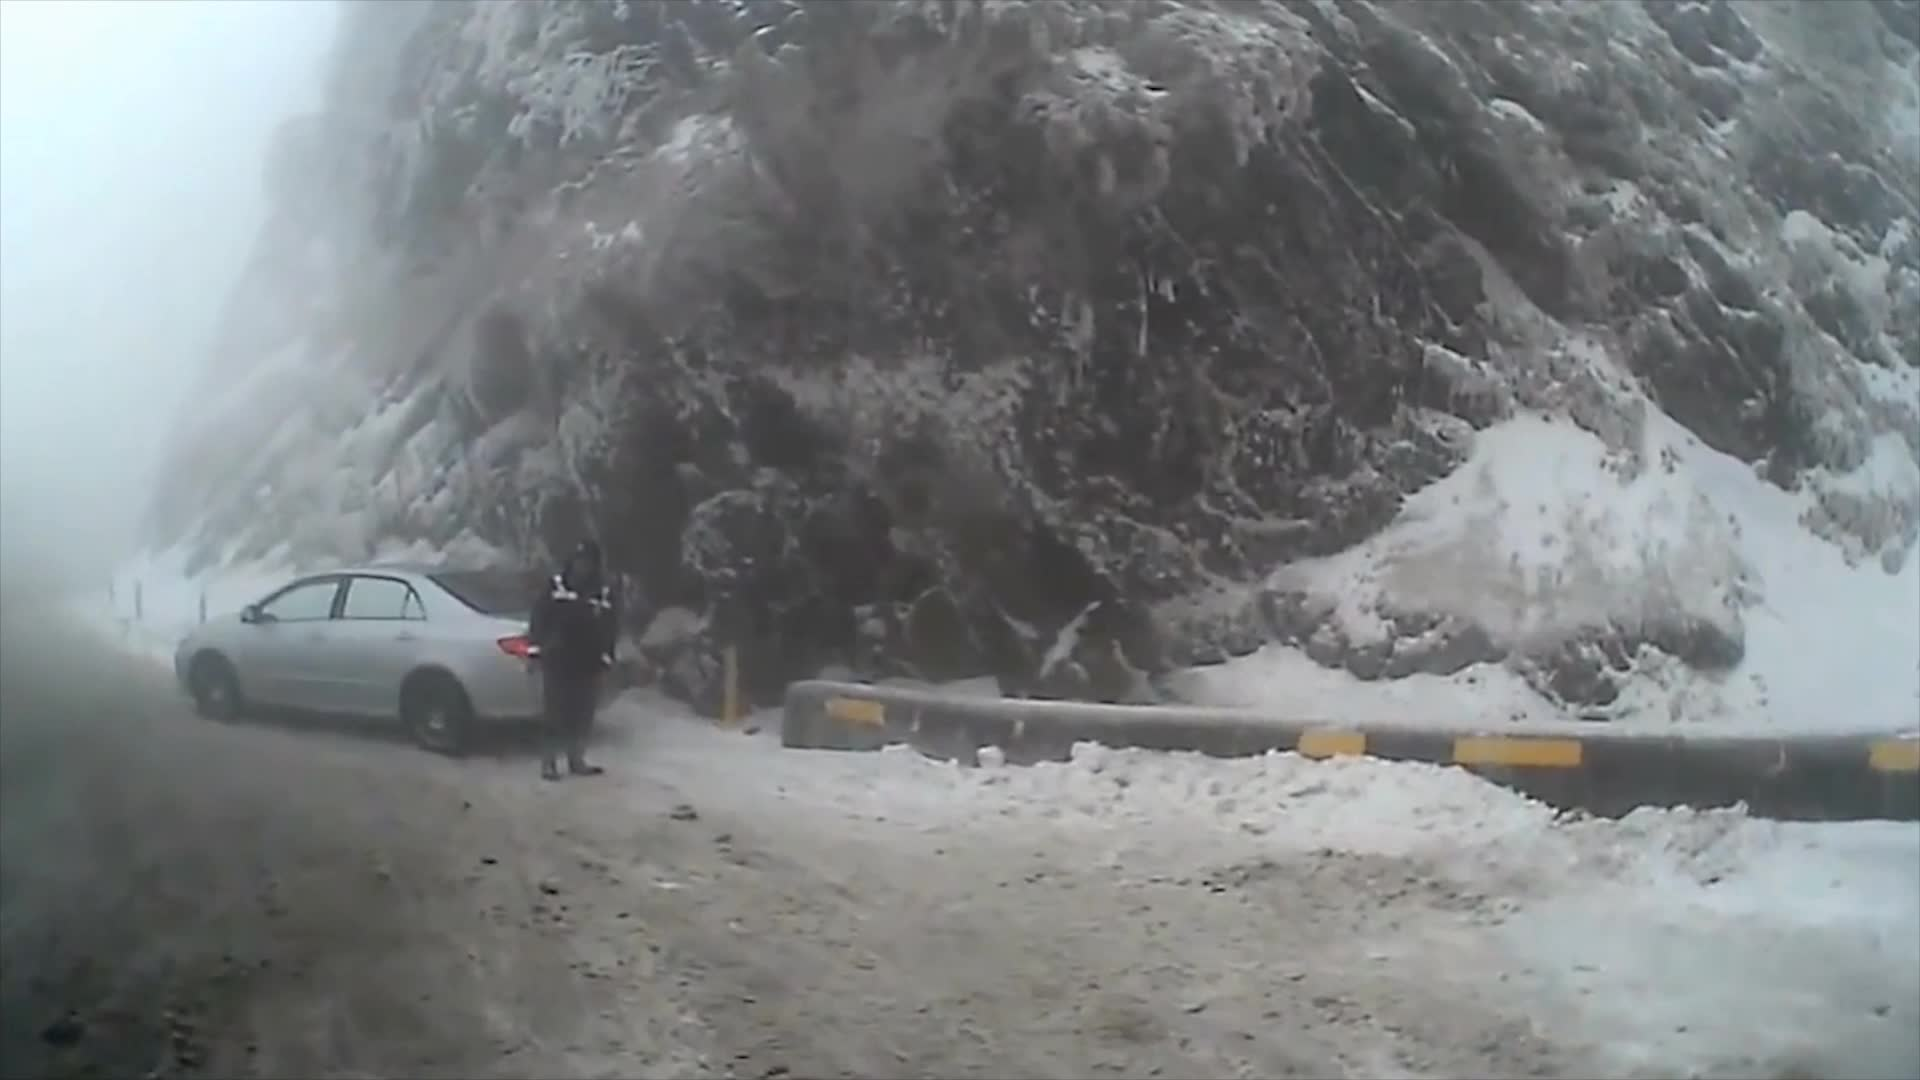pedestrian: (530, 543, 616, 784)
vehicle: (171, 560, 625, 759)
